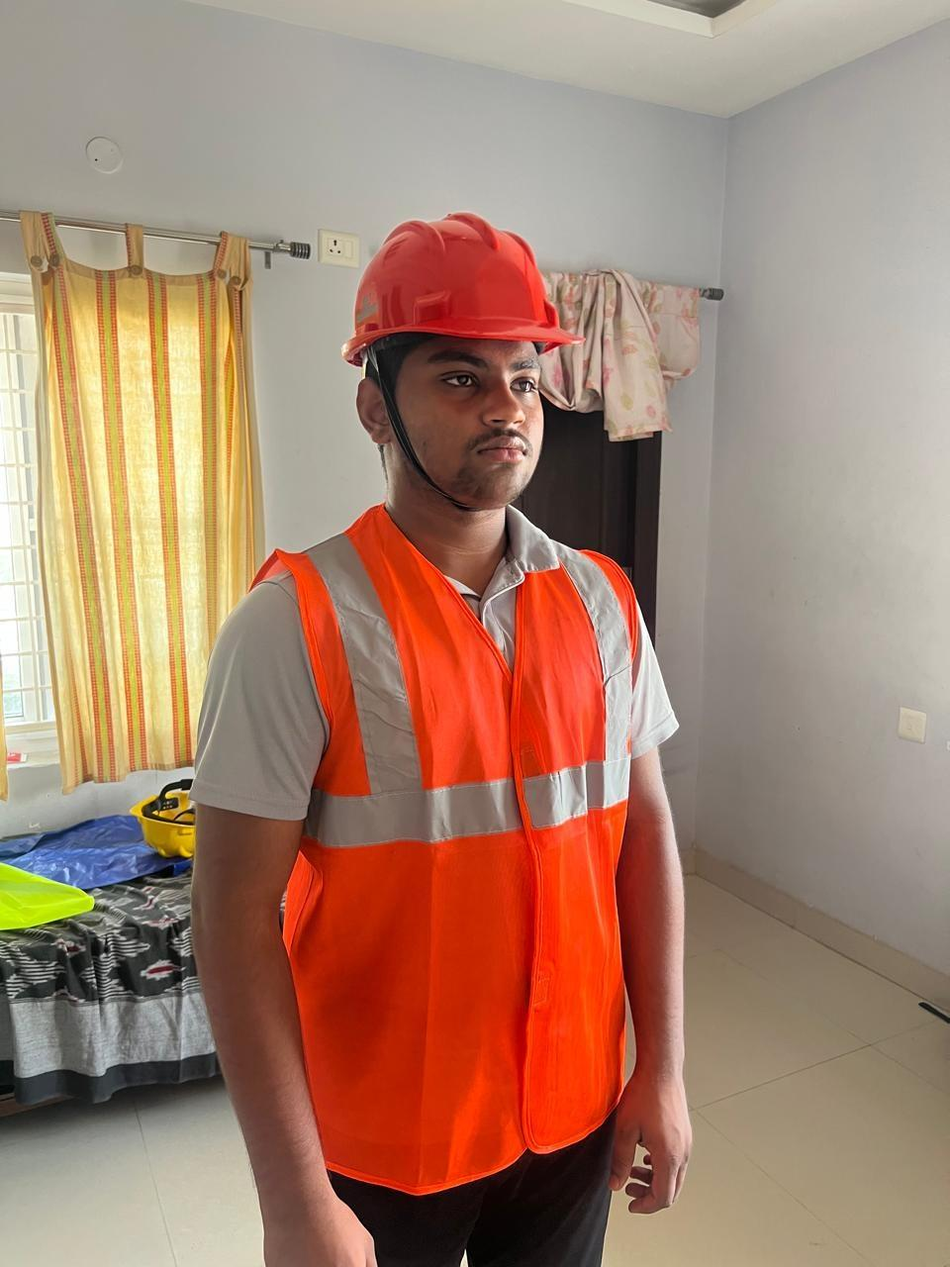Helmet: (342, 213, 585, 367), (128, 779, 197, 858)
Person: (188, 213, 692, 1267)
Vest: (249, 503, 641, 1198), (0, 861, 94, 931)
